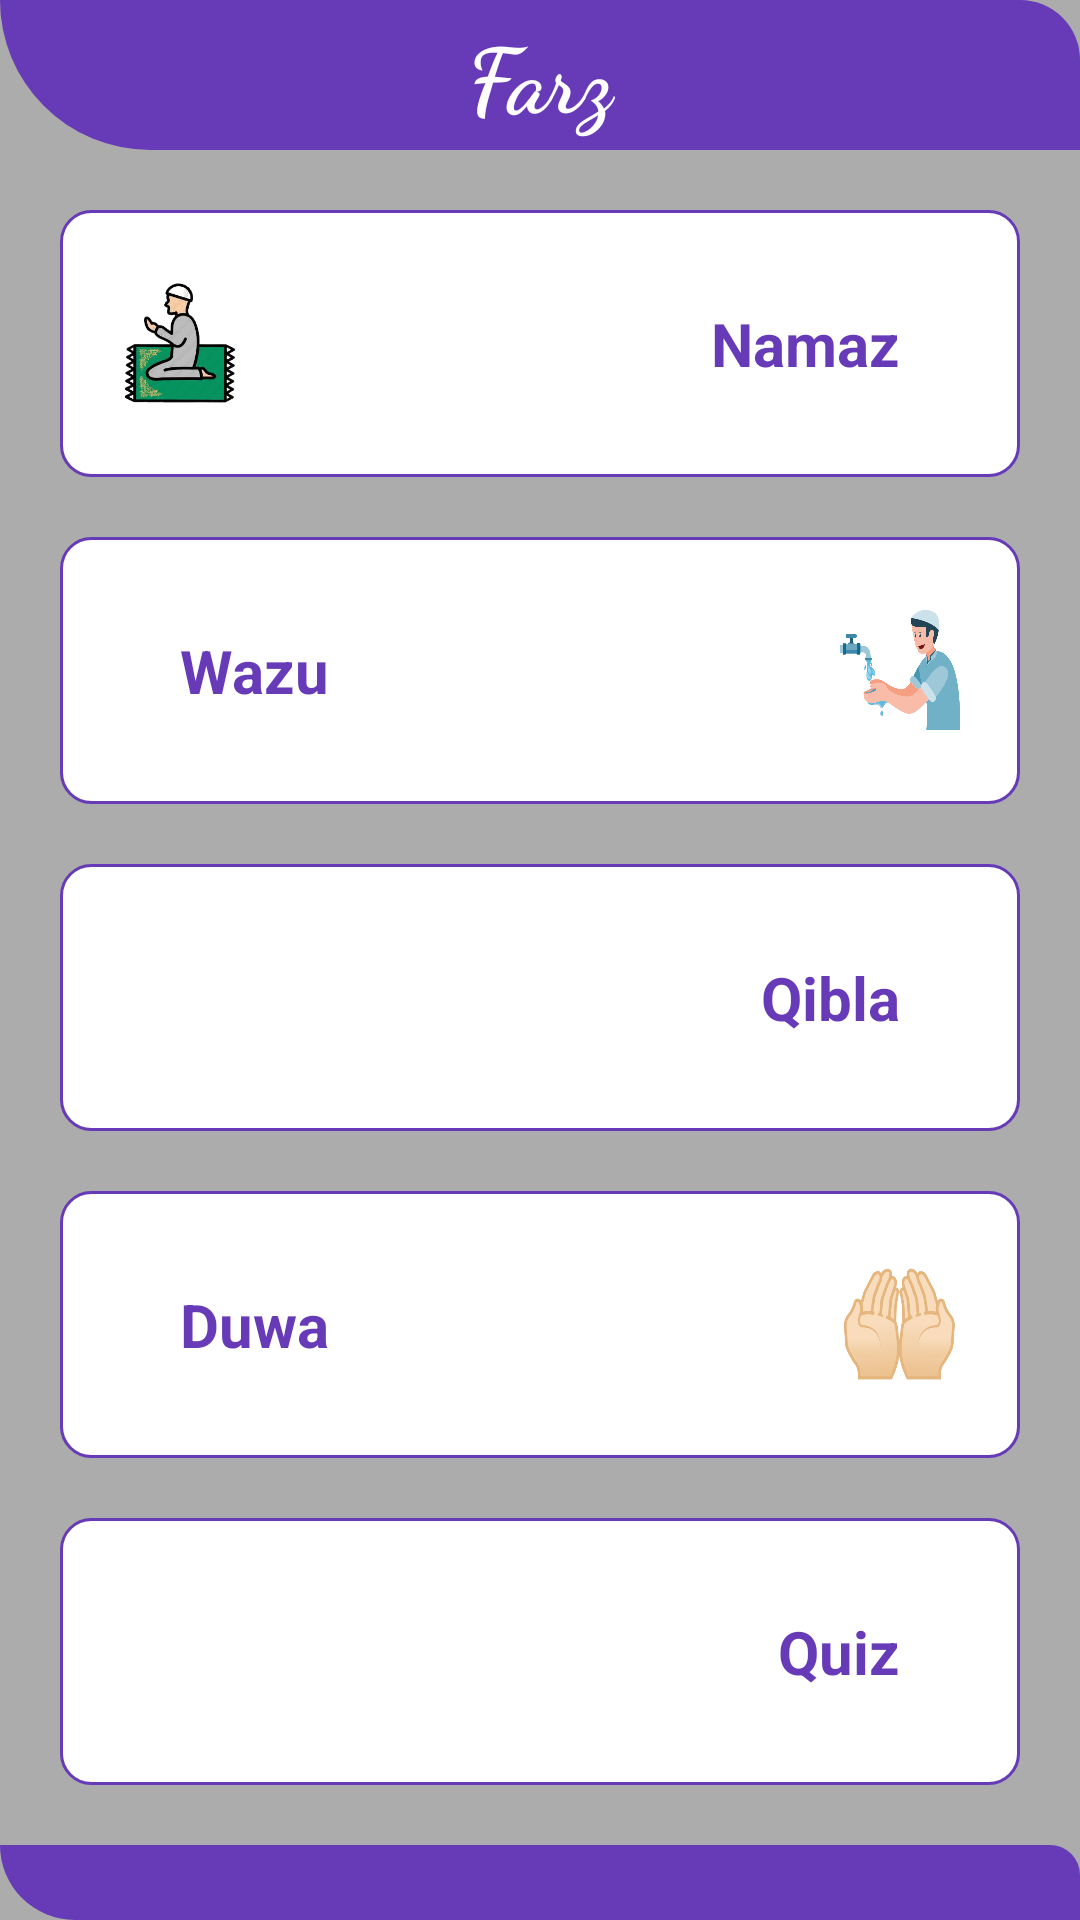

Where to tap for icons on this 1080×1920 app screen, as point (x, y):
duaa: point (899, 1324)
